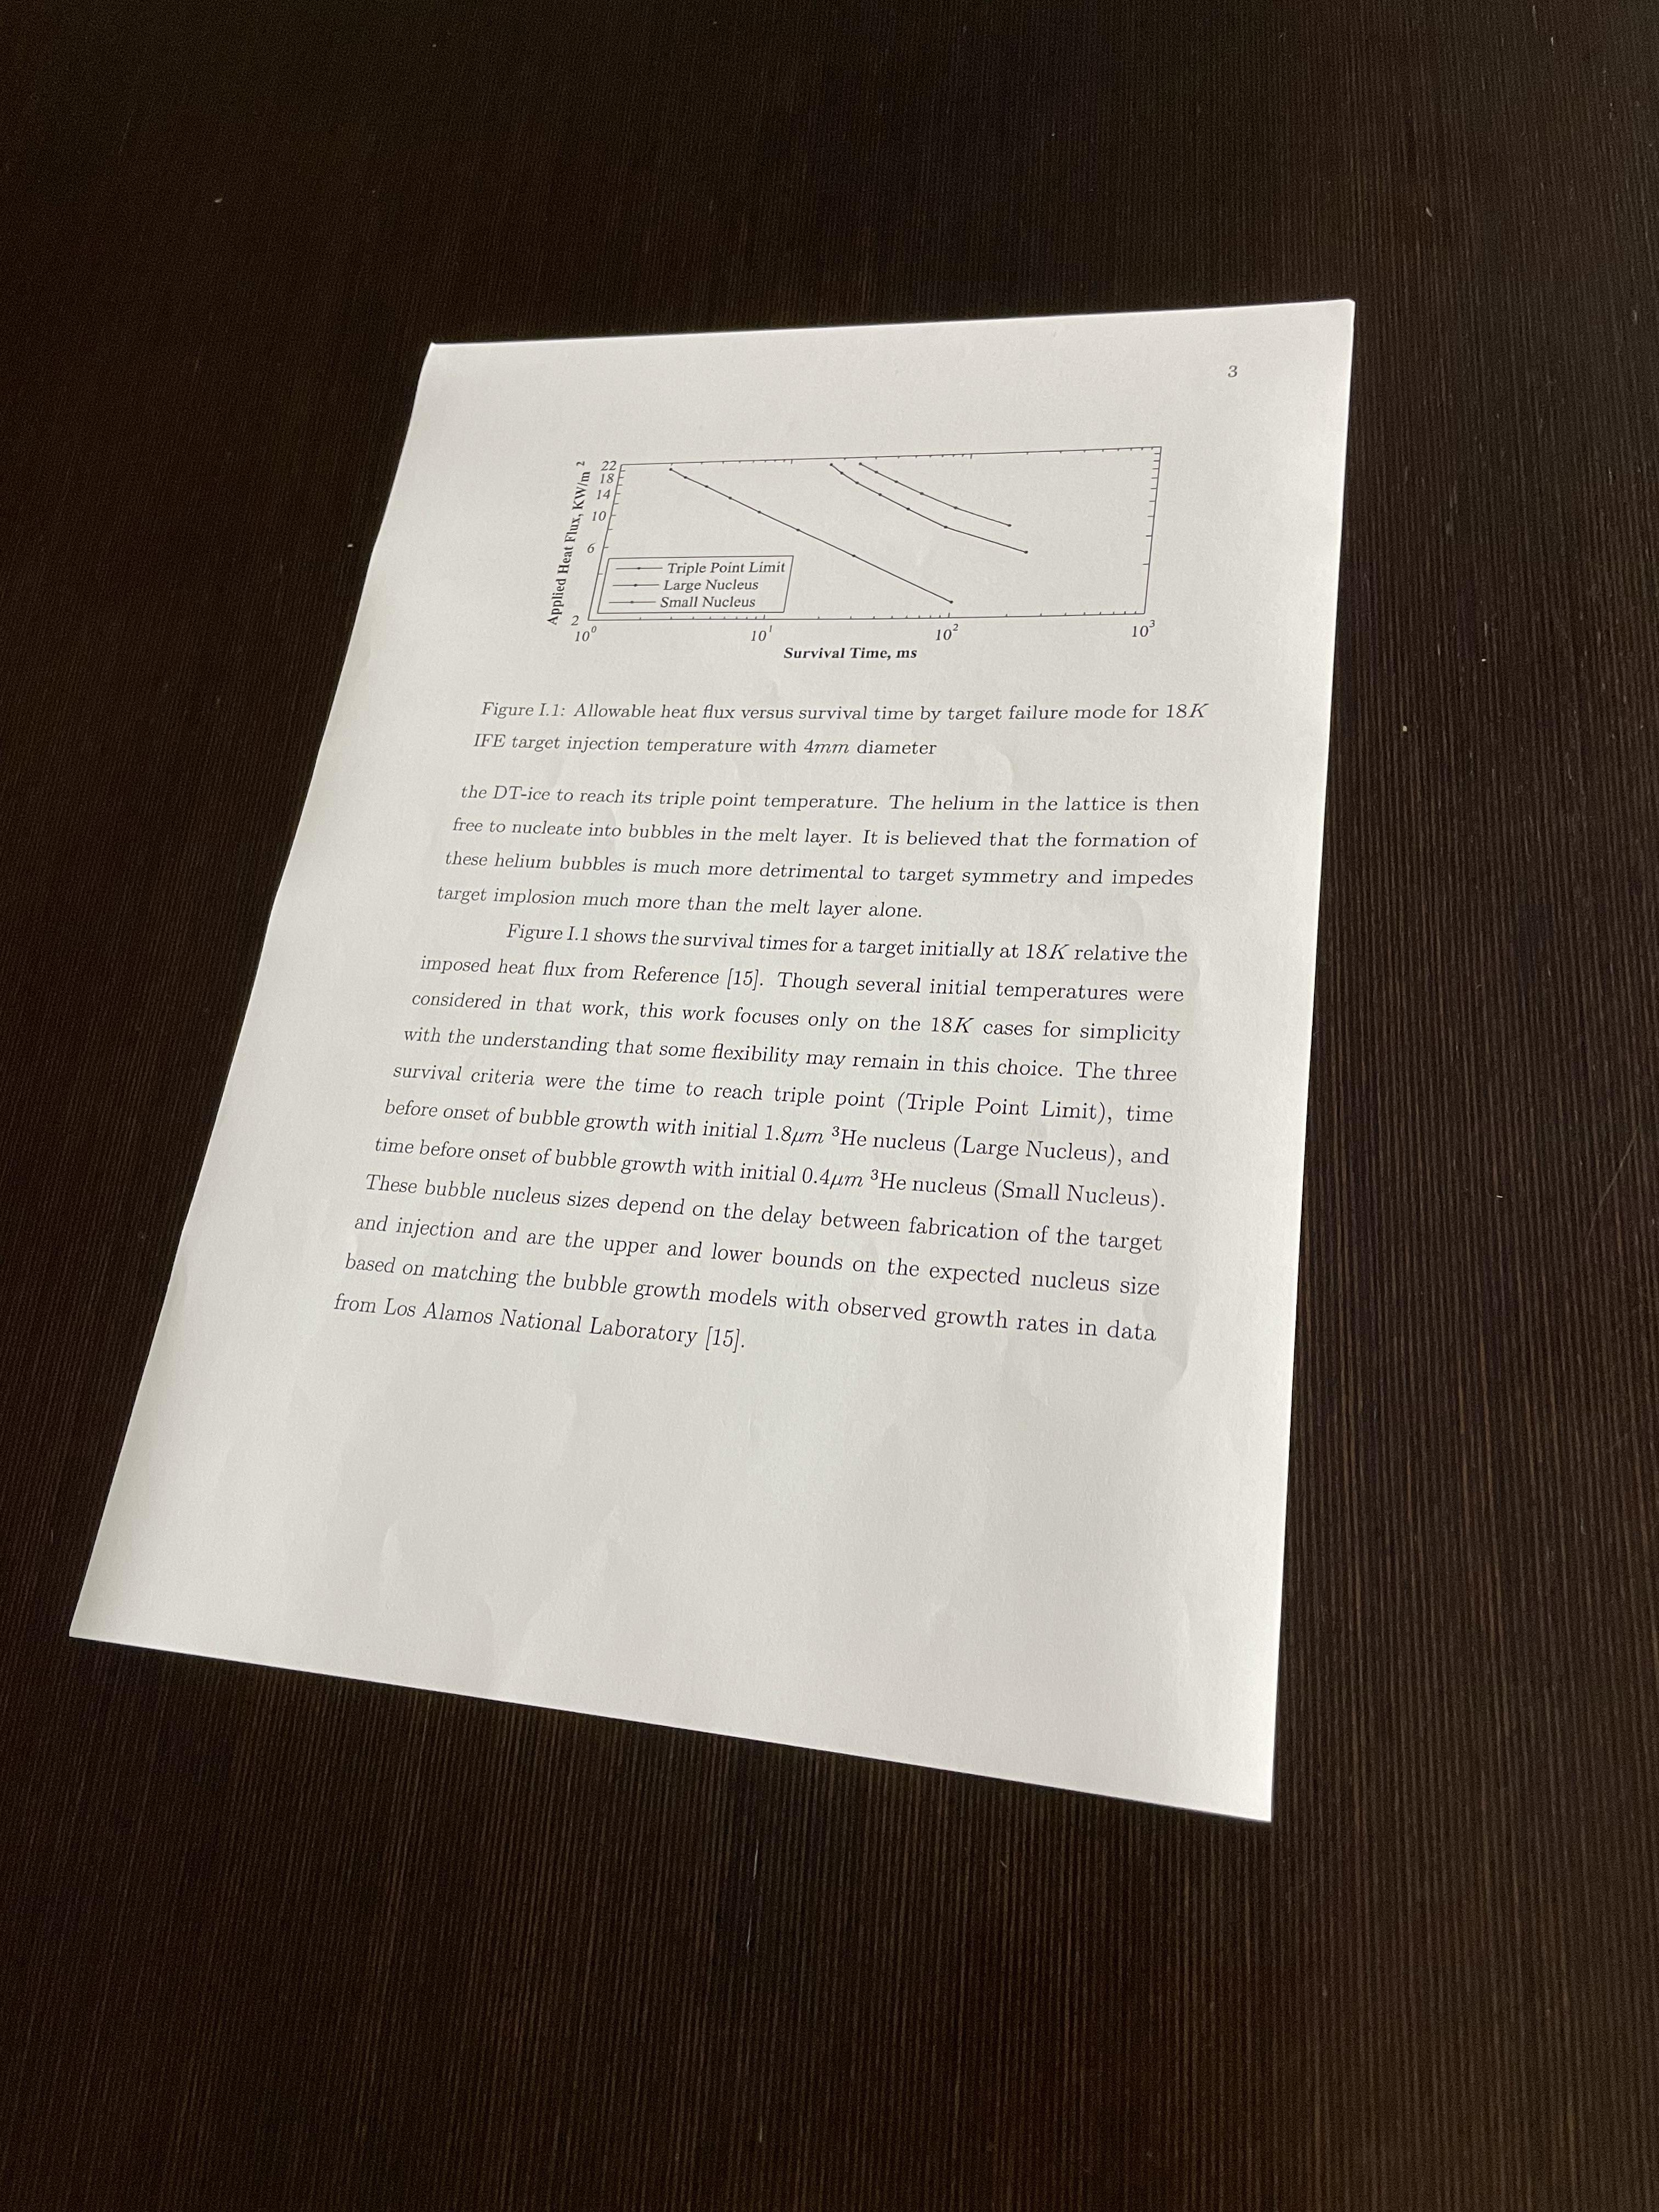paper: (44, 164, 1419, 2000)
